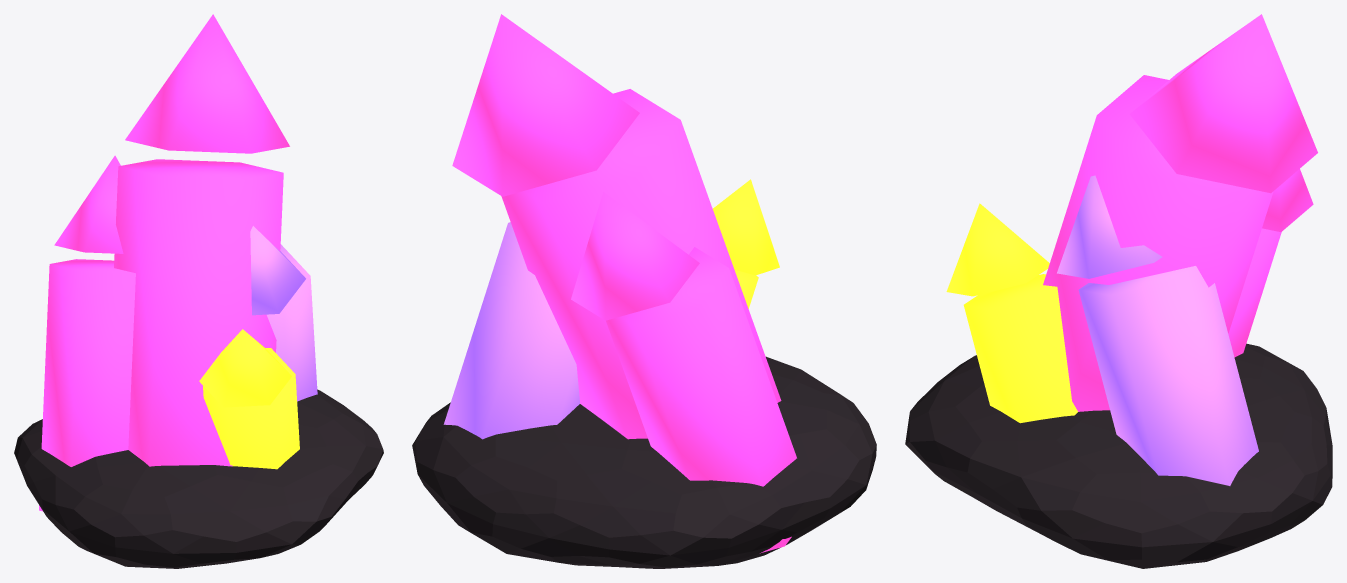
File: kristal.glb
The picture shows the model from 3 angles, left to right: view 1: azimuth 30°, elevation 25°; view 2: azimuth 150°, elevation 25°; view 3: azimuth 270°, elevation 25°; orthographic projection. The views are drawn at different scales.
Parts seen in each view (by area): view 1: Cylinder, Icosphere, Cylinder.002, Cone, Cylinder.003, Cone.003, Cylinder.001, Cone.002, Cone.001; view 2: Icosphere, Cylinder, Cylinder.002, Cone, Cylinder.001, Cone.002, Cone.003; view 3: Icosphere, Cylinder.001, Cylinder, Cone, Cylinder.003, Cone.003, Cone.001, Cylinder.002, Cone.002.
Part boxes in pixels (x1,y1,x2,y2): Cylinder: (114, 159, 283, 466); Icosphere: (14, 389, 383, 568); Cylinder.002: (39, 259, 135, 511); Cone: (125, 14, 289, 153); Cylinder.003: (203, 348, 299, 469); Cone.003: (199, 329, 291, 407); Cylinder.001: (267, 244, 317, 401); Cone.002: (54, 155, 123, 253); Cone.001: (250, 226, 305, 315); Icosphere: (412, 356, 876, 568); Cylinder: (501, 89, 781, 439); Cylinder.002: (606, 247, 796, 553); Cone: (452, 14, 639, 196); Cylinder.001: (443, 222, 579, 439); Cone.002: (571, 192, 699, 320); Cone.003: (713, 179, 779, 275); Icosphere: (905, 343, 1332, 568); Cylinder.001: (1078, 266, 1258, 485); Cylinder: (1043, 75, 1273, 411); Cone: (1129, 14, 1317, 193); Cylinder.003: (963, 274, 1077, 423); Cone.003: (946, 203, 1049, 296); Cone.001: (1057, 175, 1162, 278); Cylinder.002: (1228, 228, 1281, 357); Cone.002: (1262, 169, 1313, 231).
Bounding box in the file's own units: 3.67 × 4.85 × 3.51.
